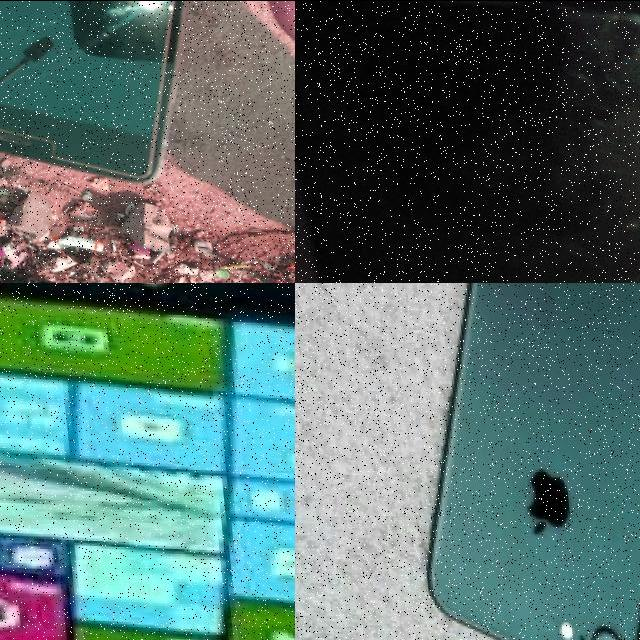screen crack: (0, 0, 193, 137), (590, 90, 640, 282)
